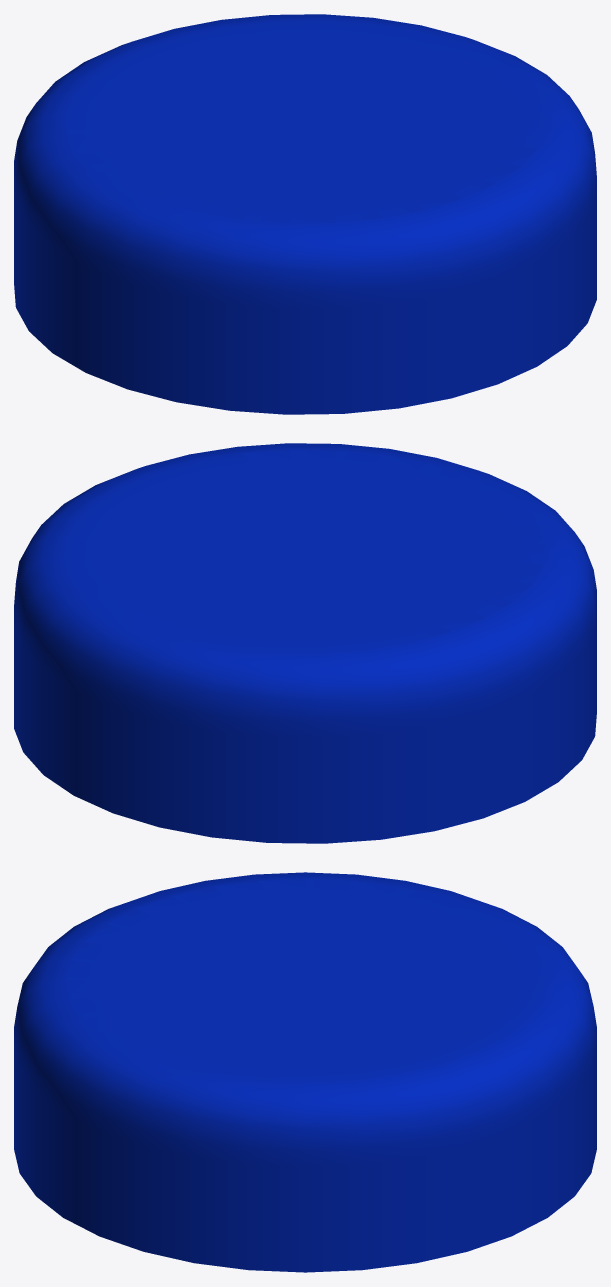
File: SM_Button2.FBX
3 views of the same model, one above another, from view 1: azimuth 30°, elevation 25°; view 2: azimuth 150°, elevation 25°; view 3: azimuth 270°, elevation 25° (orthographic).
Parts seen in each view (by area): view 1: SM_Button2; view 2: SM_Button2; view 3: SM_Button2.
Part boxes in pixels (bbox=[...]): SM_Button2: bbox=[14, 14, 596, 414]; SM_Button2: bbox=[14, 443, 596, 843]; SM_Button2: bbox=[14, 872, 596, 1272].
Size of the model in its own units: 93.14 by 93.14 by 29.81.
